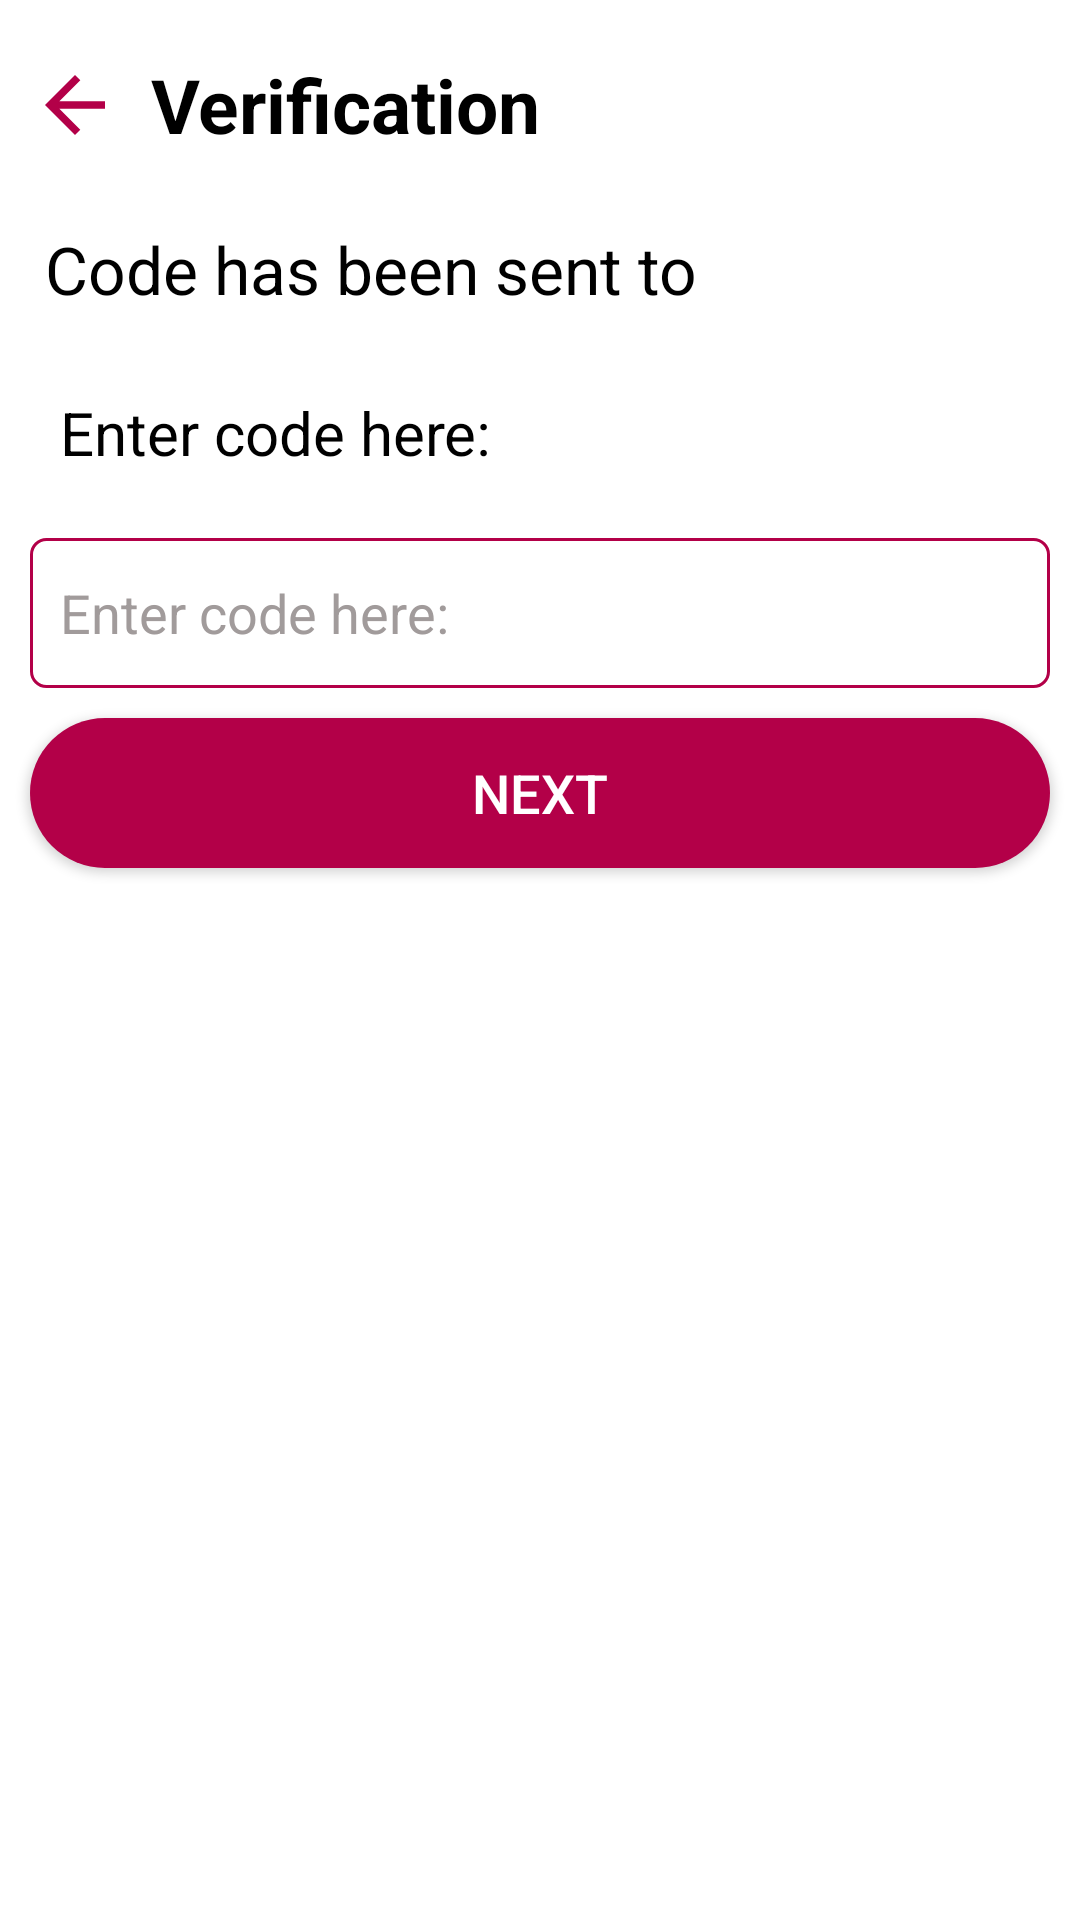

Icons on this 1080px×1920px Android screen, each with its box as [x1,y1,x2,y2]:
back: [45,75,105,135]
